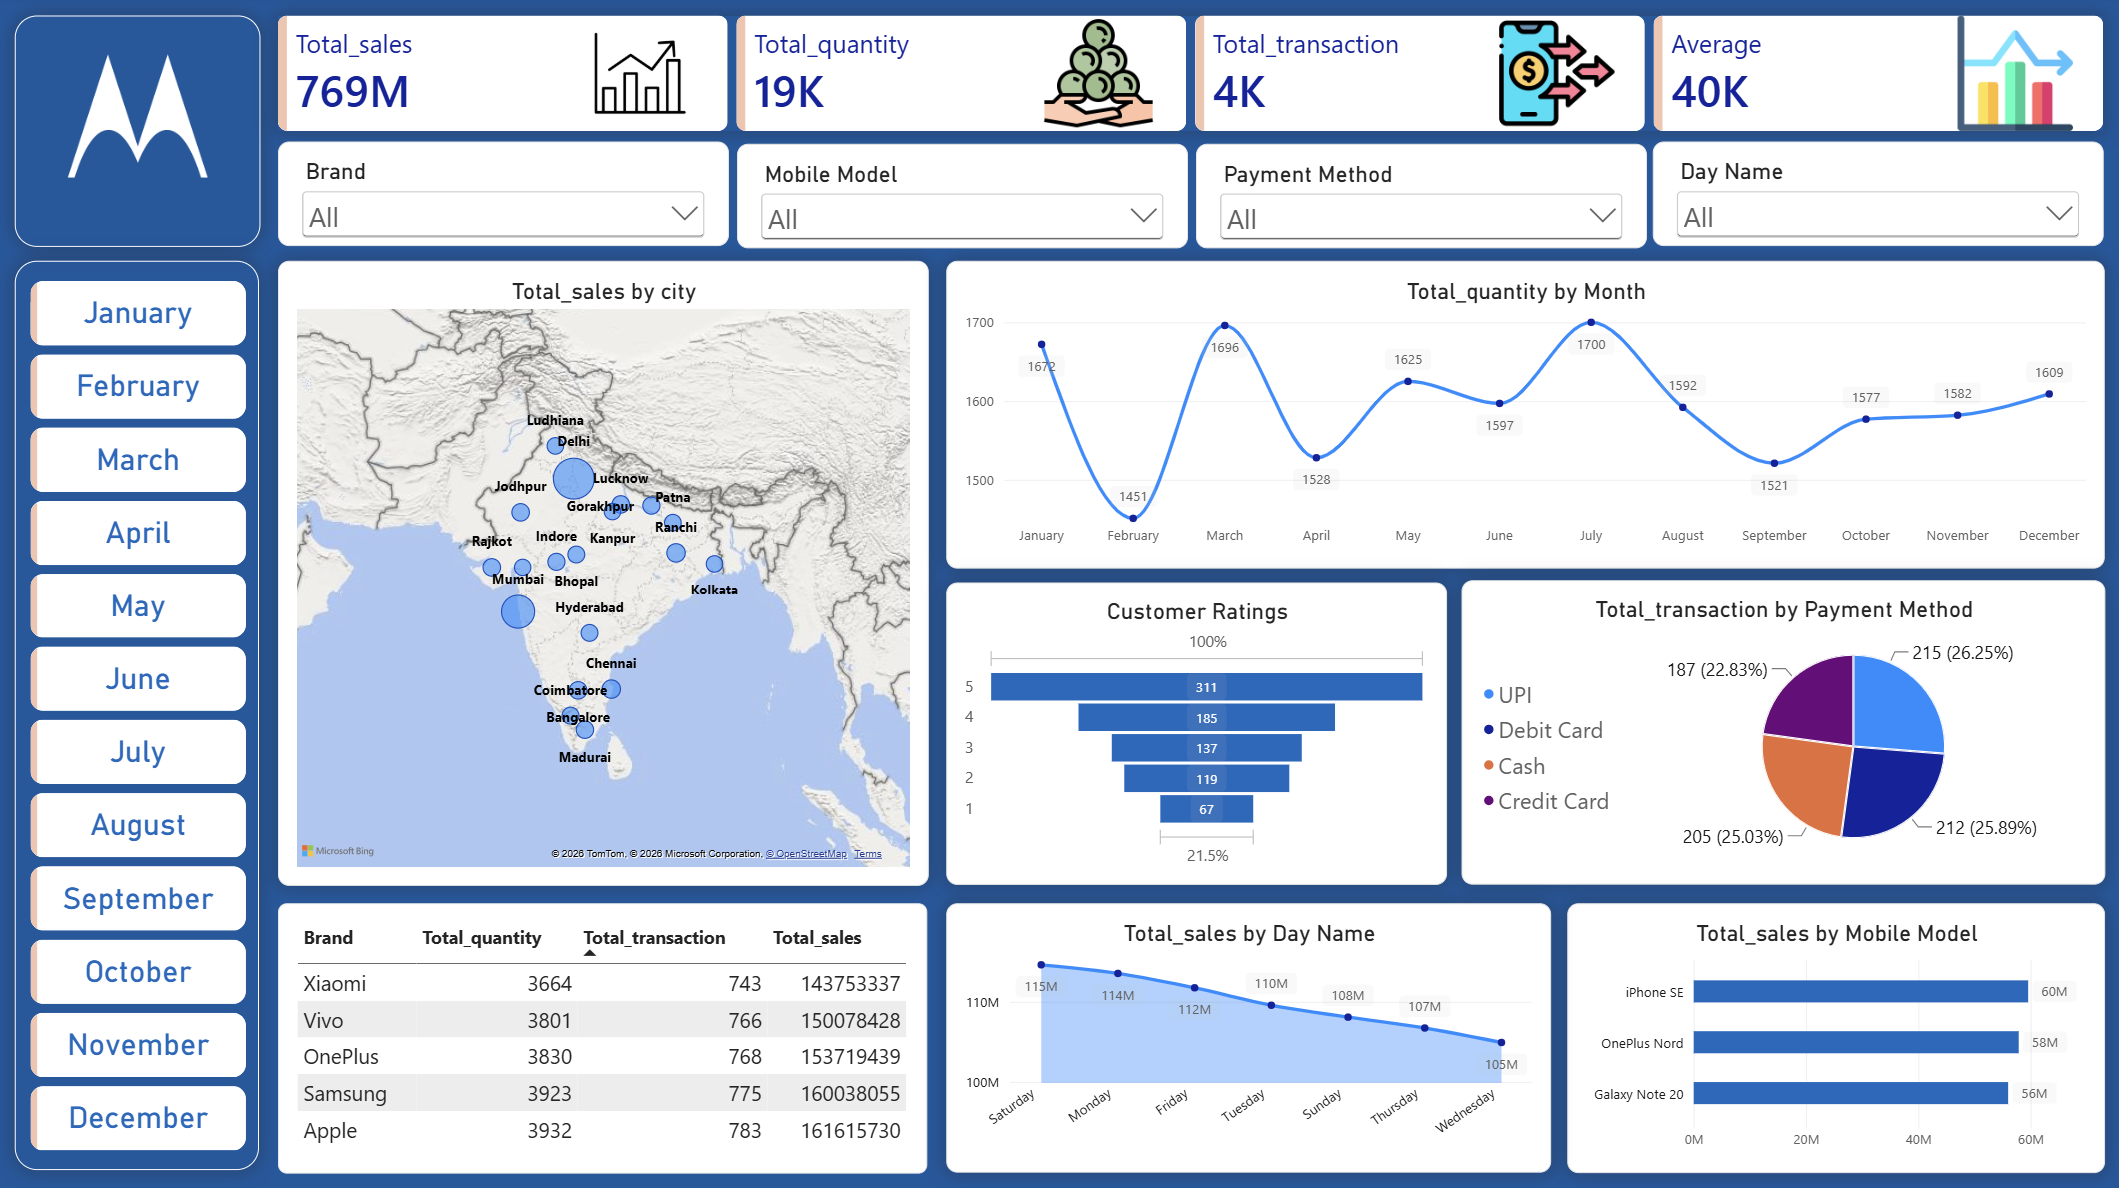

The page's visual inventory and layout, read from the dashboard file:
{"tool":"powerbi","page":{"name":"Page 1","canvas":[1920,1080],"ordinal":0},"visuals":[{"type":"image","box":[36.2,19.1,193.3,210],"z":0},{"type":"shape","box":[22.7,20.5,221.3,208.5],"z":1000},{"type":"shape","box":[22,242,220,820],"z":2000},{"type":"advancedSlicerVisual","fields":{"Values":["Sales Data.Date.Variation.Date Hierarchy.Month"]},"box":[36,260,194,786],"z":3000},{"type":"cardVisual","fields":{"Data":["Sales Data.Total_sales","Sales Data.Total_quantity","Sales Data.Total_transaction","Sales Data.Avg_unit_price"]},"box":[260,20,1644,104],"z":4000},{"type":"map","title":"Total_sales by city","fields":{"Category":["Sales Data.City"],"Size":["Sales Data.Total_sales"]},"box":[260,242,586,564],"z":5000},{"type":"lineChart","fields":{"Category":["Sales Data.Date.Variation.Date Hierarchy.Month","Sales Data.Date.Variation.Date Hierarchy.Day"],"Y":["Sales Data.Total_quantity"]},"box":[861.7,241,1043.6,277.4],"z":6000},{"type":"pieChart","fields":{"Category":["Sales Data.Payment Method"],"Y":["Sales Data.Total_transaction"]},"box":[1325.6,529.8,579.8,275.1],"z":7000},{"type":"clusteredBarChart","fields":{"Category":["Sales Data.Mobile Model"],"Y":["Sales Data.Total_sales"]},"box":[1421.1,820.8,484.3,243.3],"z":8000},{"type":"funnel","title":"Customer Ratings","fields":{"Category":["Sales Data.Customer Ratings"],"Y":["CountNonNull(Sales Data.Customer Ratings)"]},"box":[861.2,530.6,451,273.5],"z":9000},{"type":"areaChart","fields":{"Category":["Sales Data.Day Name"],"Y":["Sales Data.Total_sales"]},"box":[861.2,820.4,544.9,242.9],"z":10000},{"type":"tableEx","fields":{"Values":["Sales Data.Brand","Sales Data.Total_quantity","Sales Data.Total_transaction","Sales Data.Total_sales"]},"box":[260,821.7,585,243.3],"z":11000},{"type":"slicer","fields":{"Values":["Sales Data.Brand"]},"box":[260,134,406,94],"z":12000},{"type":"slicer","fields":{"Values":["Sales Data.Mobile Model"]},"box":[672,136,406,94],"z":13000},{"type":"slicer","fields":{"Values":["Sales Data.Payment Method"]},"box":[1086,136,406,94],"z":14000},{"type":"slicer","fields":{"Values":["Sales Data.Day Name"]},"box":[1498,134,406,94],"z":15000}]}

Visuals, with their boxes in screenshot pixels (x1, y1, x2, y2), scaled from the page's 1920x1080 canvas onto the 2119x1188 screenshot:
image: {"left": 40, "top": 21, "right": 253, "bottom": 252}
shape: {"left": 25, "top": 23, "right": 269, "bottom": 252}
shape: {"left": 24, "top": 266, "right": 267, "bottom": 1168}
advancedSlicerVisual - Sales Data.Date.Variation.Date Hierarchy.Month: {"left": 40, "top": 286, "right": 254, "bottom": 1151}
cardVisual - Sales Data.Total_sales x Sales Data.Total_quantity: {"left": 287, "top": 22, "right": 2101, "bottom": 136}
"Total_sales by city" map: {"left": 287, "top": 266, "right": 934, "bottom": 887}
lineChart - Sales Data.Date.Variation.Date Hierarchy.Month x Sales Data.Date.Variation.Date Hierarchy.Day: {"left": 951, "top": 265, "right": 2103, "bottom": 570}
pieChart - Sales Data.Payment Method x Sales Data.Total_transaction: {"left": 1463, "top": 583, "right": 2103, "bottom": 885}
clusteredBarChart - Sales Data.Mobile Model x Sales Data.Total_sales: {"left": 1568, "top": 903, "right": 2103, "bottom": 1171}
"Customer Ratings" funnel: {"left": 950, "top": 584, "right": 1448, "bottom": 885}
areaChart - Sales Data.Day Name x Sales Data.Total_sales: {"left": 950, "top": 902, "right": 1552, "bottom": 1170}
tableEx - Sales Data.Brand x Sales Data.Total_quantity: {"left": 287, "top": 904, "right": 933, "bottom": 1172}
slicer - Sales Data.Brand: {"left": 287, "top": 147, "right": 735, "bottom": 251}
slicer - Sales Data.Mobile Model: {"left": 742, "top": 150, "right": 1190, "bottom": 253}
slicer - Sales Data.Payment Method: {"left": 1199, "top": 150, "right": 1647, "bottom": 253}
slicer - Sales Data.Day Name: {"left": 1653, "top": 147, "right": 2101, "bottom": 251}
